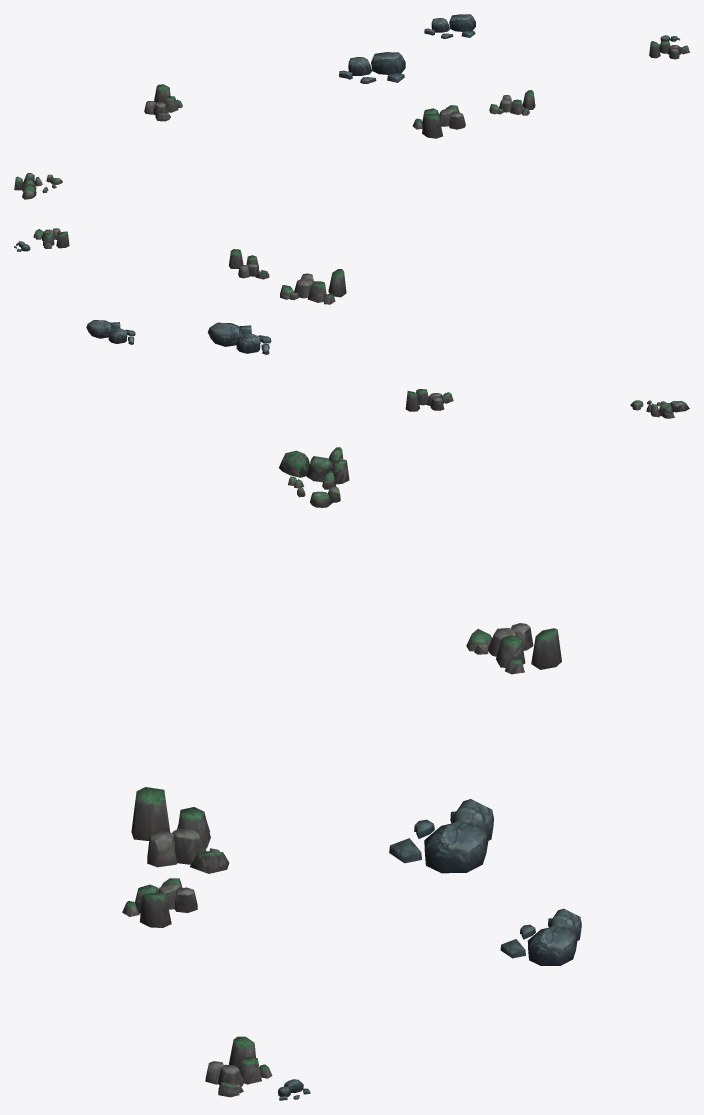
Rendered from Area_06_7.fbx.
The picture shows the model from 3 angles, top to bottom: view 1: azimuth 30°, elevation 25°; view 2: azimuth 150°, elevation 25°; view 3: azimuth 270°, elevation 25°; orthographic projection. The views are drawn at different scales.
Parts seen in each view (by area): view 1: Area_06_7; view 2: Area_06_7; view 3: Area_06_7.
Part boxes in pixels (x1,y1,x2,y2): Area_06_7: (14,14,689,199); Area_06_7: (14,228,689,418); Area_06_7: (122,447,581,1100).
Bounding box in the file's own units: 11260 × 344 × 3420.
